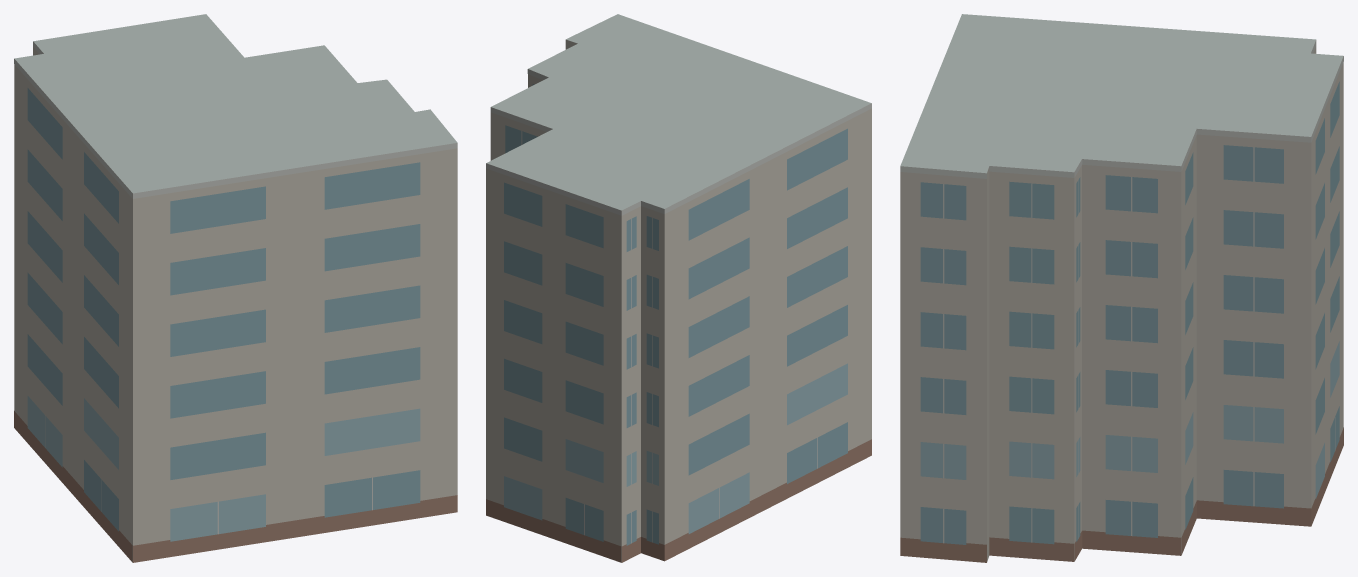
Rendered from survey-upis-32657640.glb.
3 views of the same model, side by side, from view 1: azimuth 30°, elevation 25°; view 2: azimuth 150°, elevation 25°; view 3: azimuth 270°, elevation 25° (orthographic). The views are drawn at different scales.
Parts seen in each view (by area): view 1: survey-upis-32657640.tmp; view 2: survey-upis-32657640.tmp; view 3: survey-upis-32657640.tmp.
Part boxes in pixels (bbox=[...]): survey-upis-32657640.tmp: bbox=[14, 14, 457, 562]; survey-upis-32657640.tmp: bbox=[486, 14, 871, 562]; survey-upis-32657640.tmp: bbox=[900, 14, 1343, 562].
Size of the model in its own units: 14.47 by 16.5 by 17.03.
